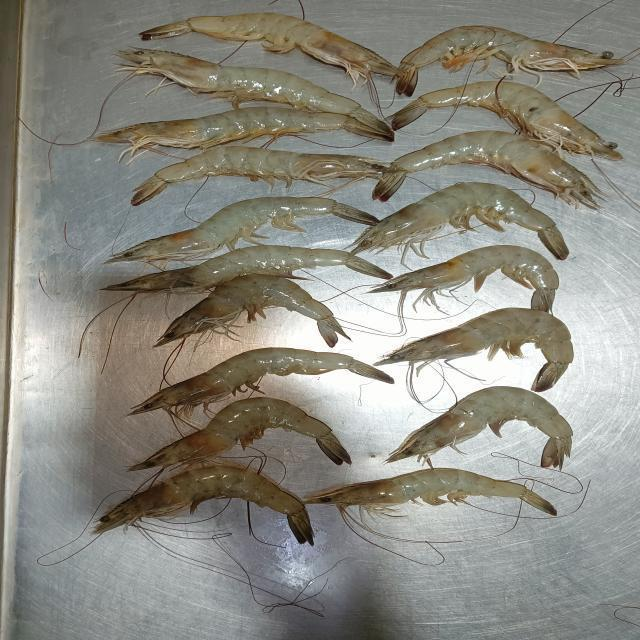shrimp: (121, 53, 395, 140), (391, 80, 622, 159), (371, 132, 603, 208), (140, 14, 398, 82), (93, 464, 313, 543), (130, 347, 392, 413), (348, 181, 566, 259), (378, 309, 573, 391), (116, 197, 378, 257), (93, 106, 394, 158), (397, 27, 623, 95), (131, 146, 390, 205), (131, 399, 351, 468), (387, 386, 571, 467), (156, 275, 345, 347), (106, 246, 392, 292), (372, 246, 559, 310), (305, 469, 555, 515)
